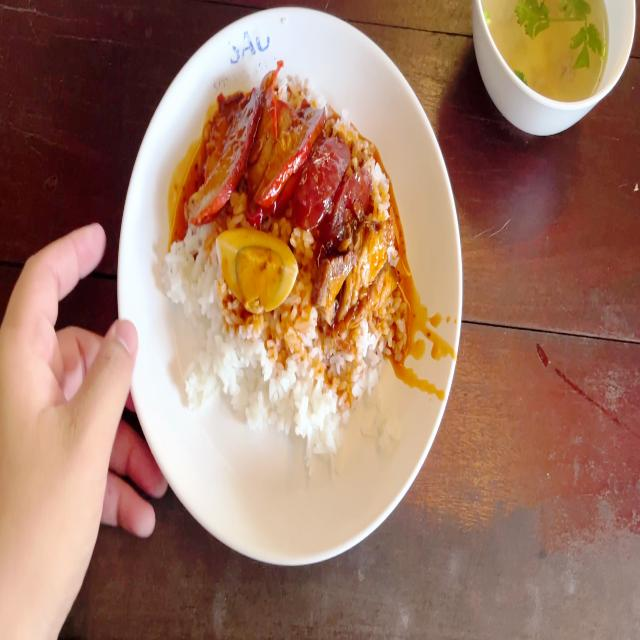boiled_egg: (222, 228, 290, 311)
chainese_sausage: (301, 136, 364, 250)
crispy_pork: (323, 228, 399, 321)
red_pork: (191, 85, 307, 228)
red_pork_and_crispy_pork: (171, 80, 397, 418)
rice: (232, 315, 323, 432), (167, 240, 227, 399), (321, 325, 392, 434)
